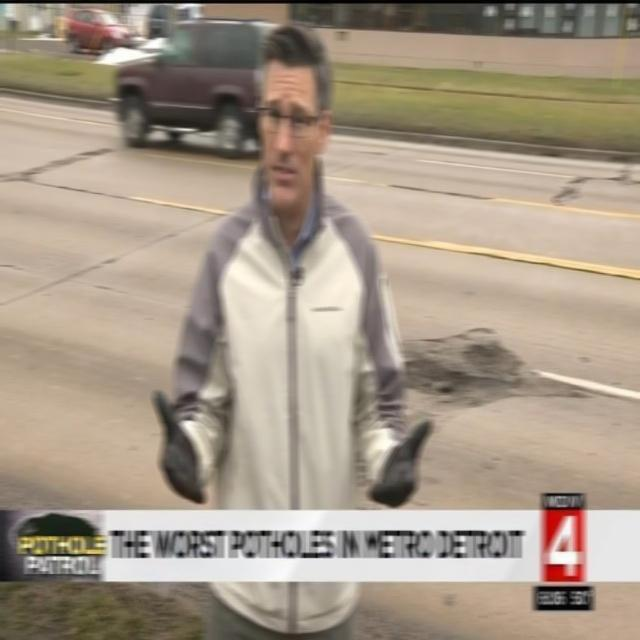Pothole: (390, 312, 600, 430), (542, 166, 640, 226)
